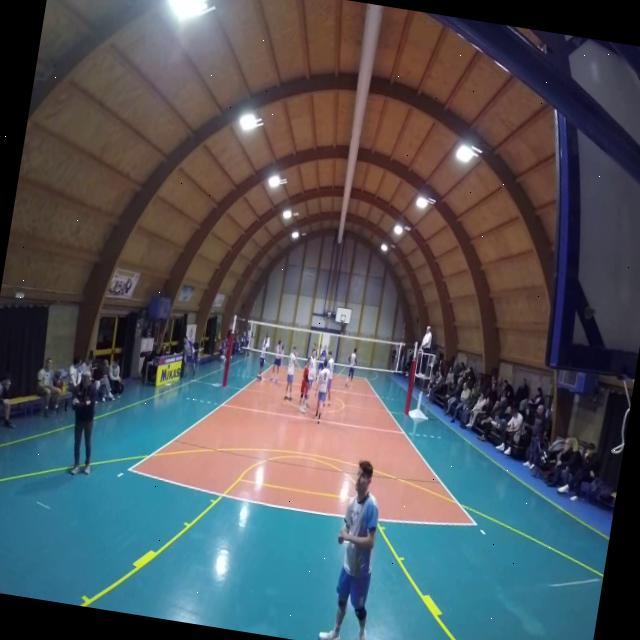serve: (320, 461, 396, 640)
